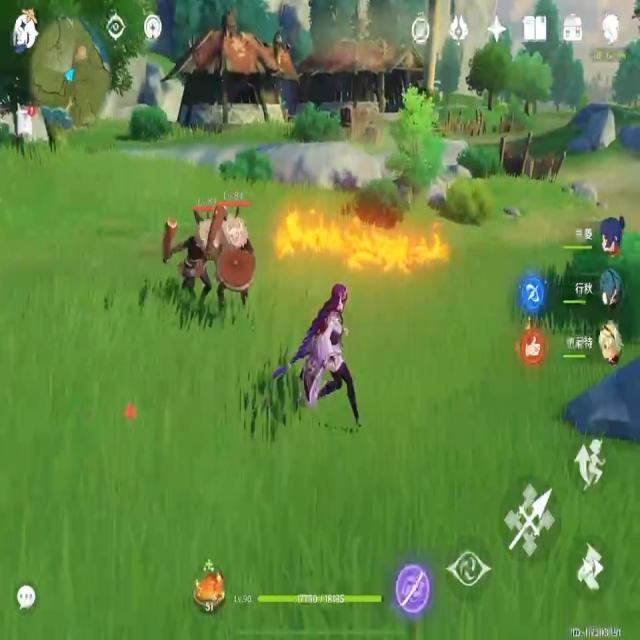genshin-hilichurls: (173, 193, 259, 321)
